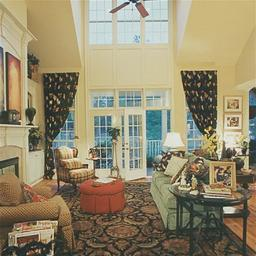Puerta: (127, 109, 145, 181)
